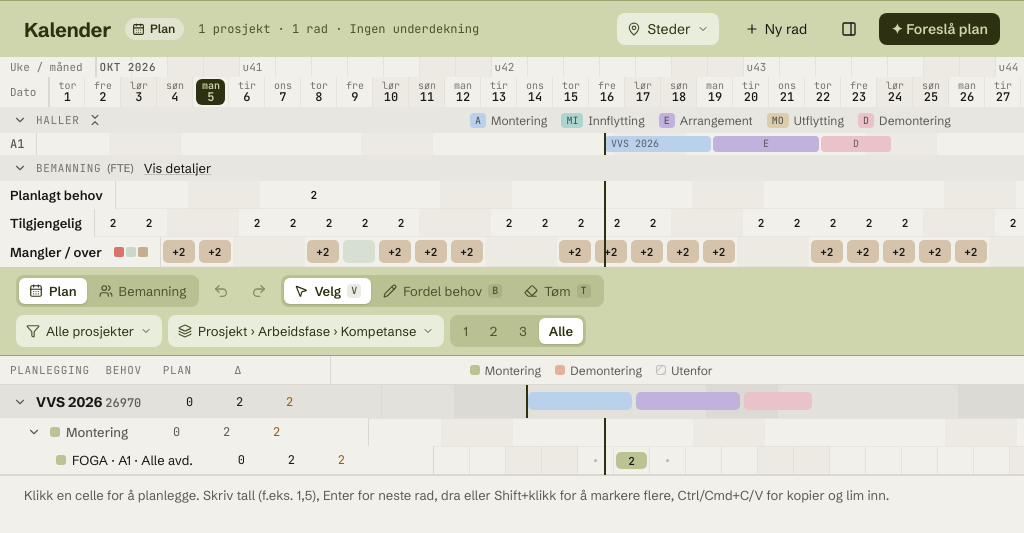
the planning grid › opens the cell menu on a right-click, and closes it with Escape
Right-click the 6th text with class "editable" at {"x": 632, "y": 460}, box x1=614 y1=446 x2=650 y2=474
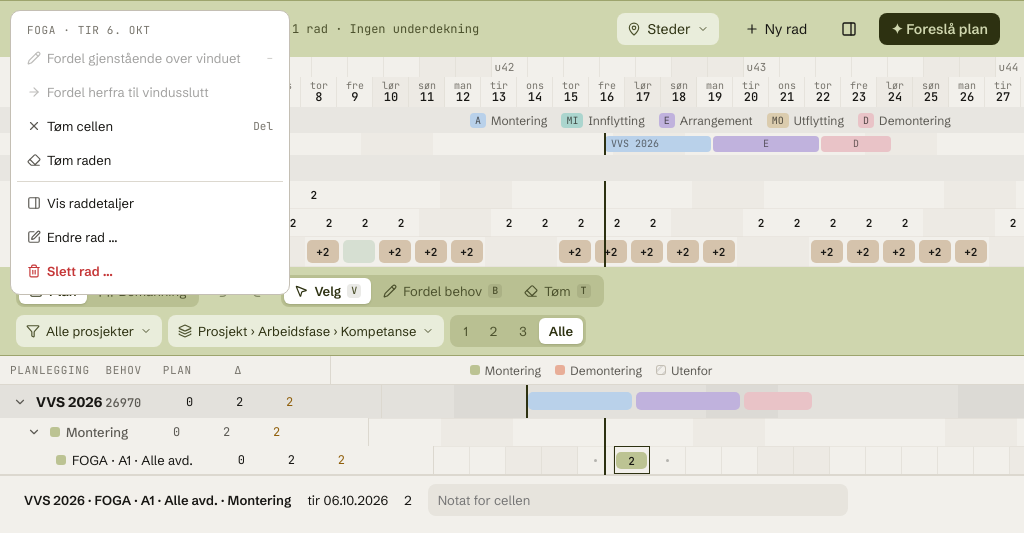
Expected: the menu with class "cell-menu" is shown, x1=10 y1=10 x2=290 y2=295
Press Escape
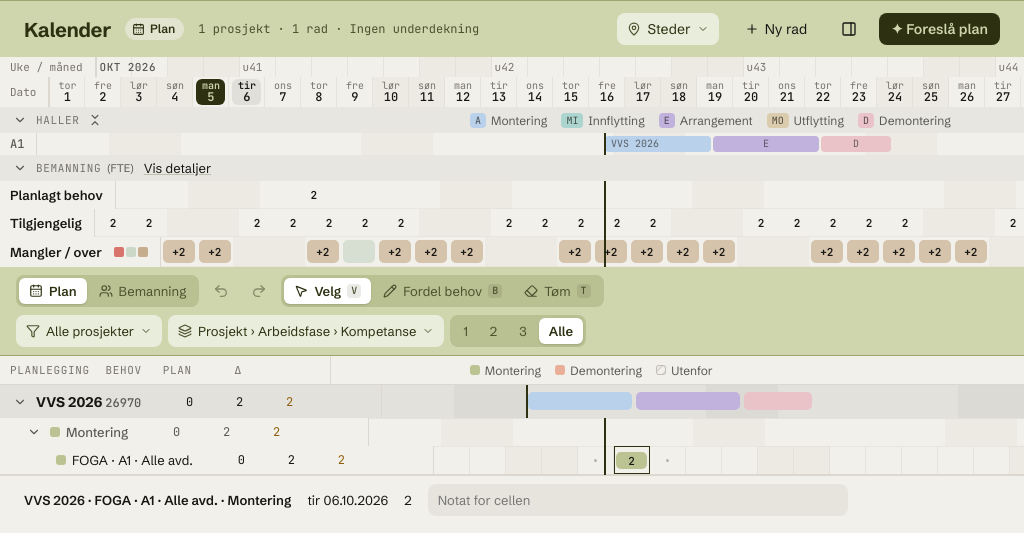
Expected: the menu with class "cell-menu" is gone
